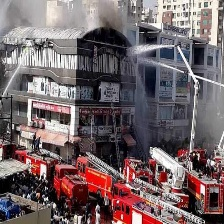smoke: (1, 1, 122, 29)
